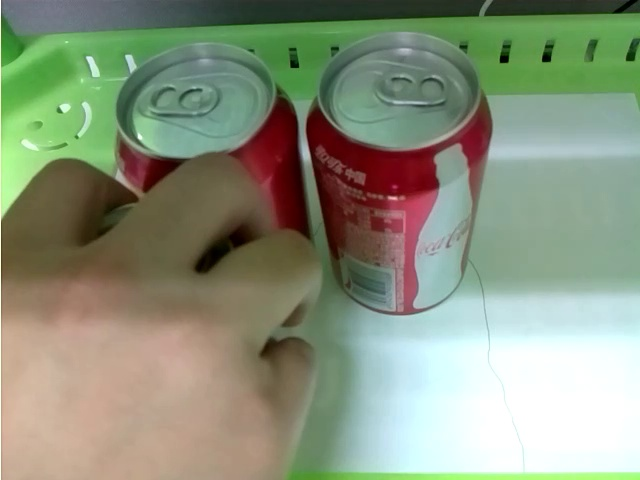cocacola: (305, 31, 494, 313), (111, 41, 312, 234)
hand: (1, 158, 325, 480)
